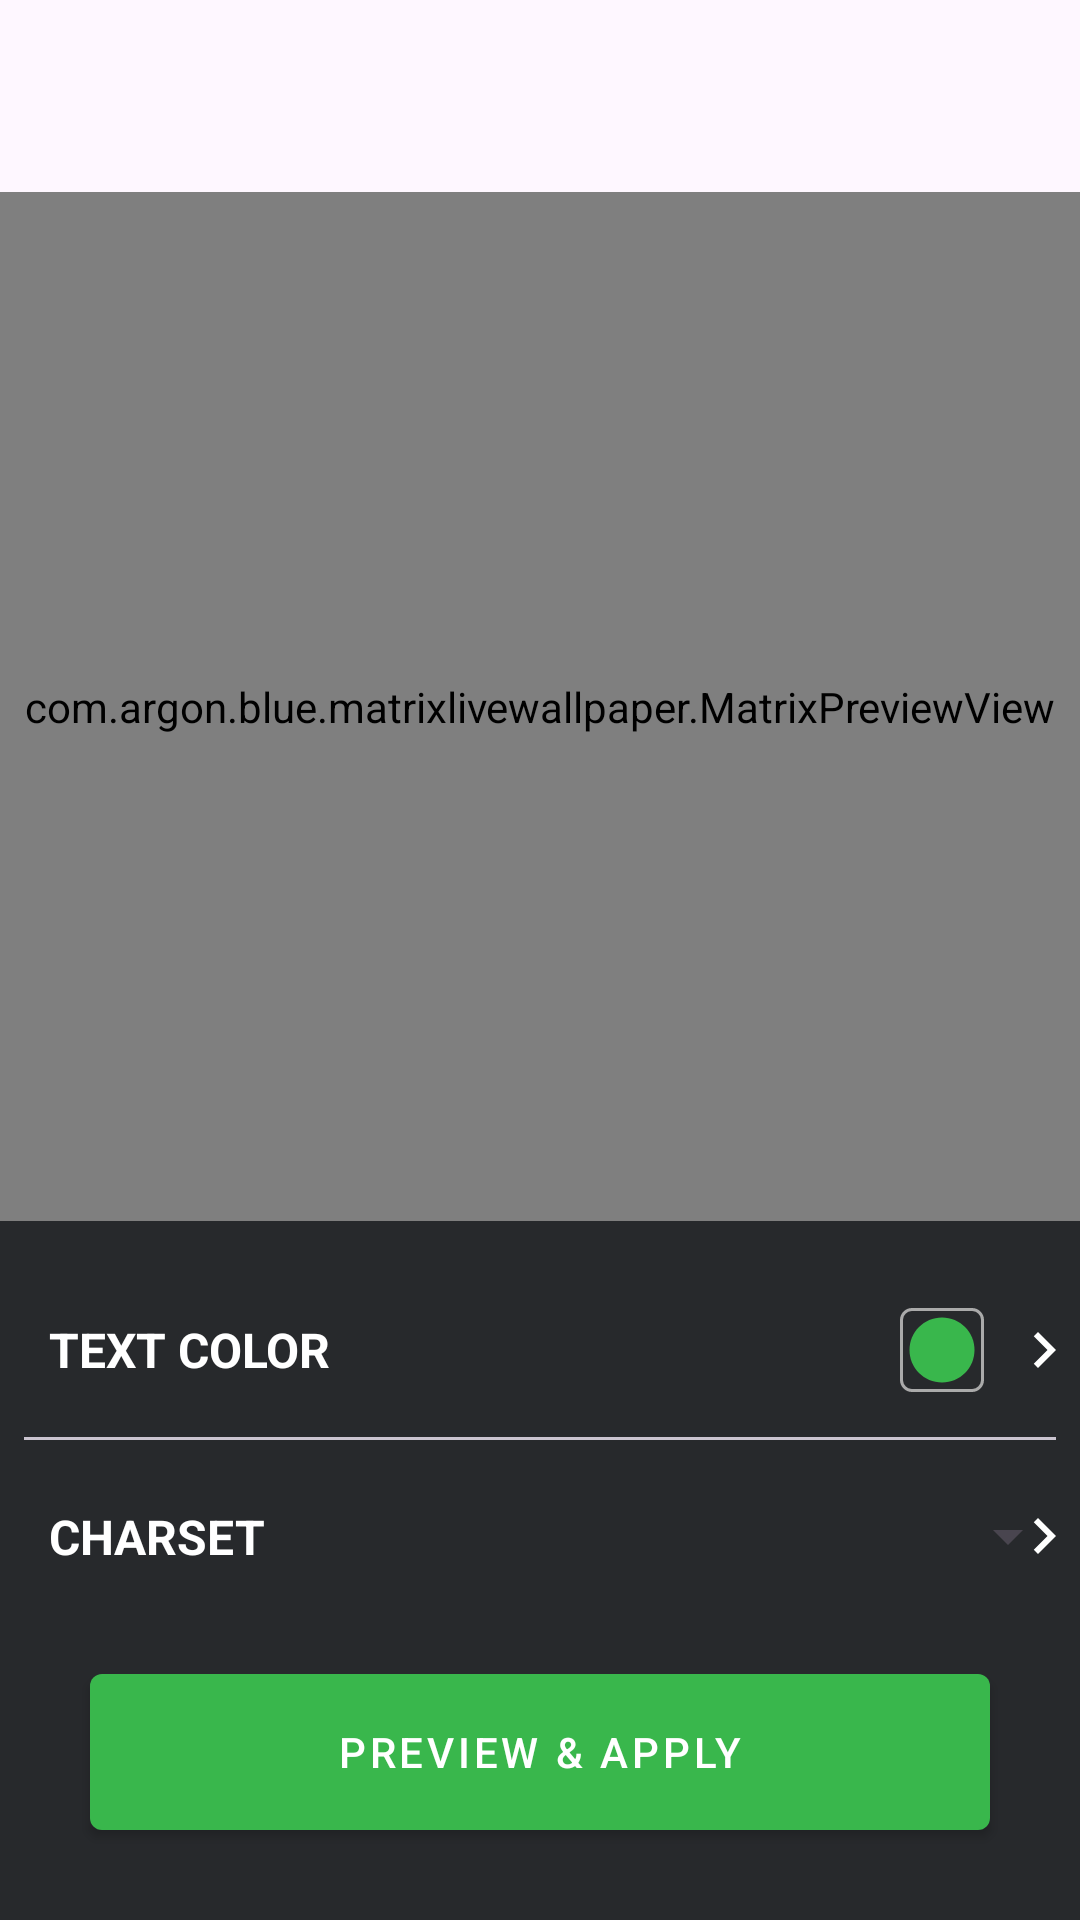

Locate icon controls on the screen. Image size 1080px×1920px, boxes as detection(x1, y1, x2, y2).
chevron right: detection(1034, 1332, 1056, 1368), detection(1034, 1518, 1056, 1554)
circle: detection(900, 1308, 984, 1392)
